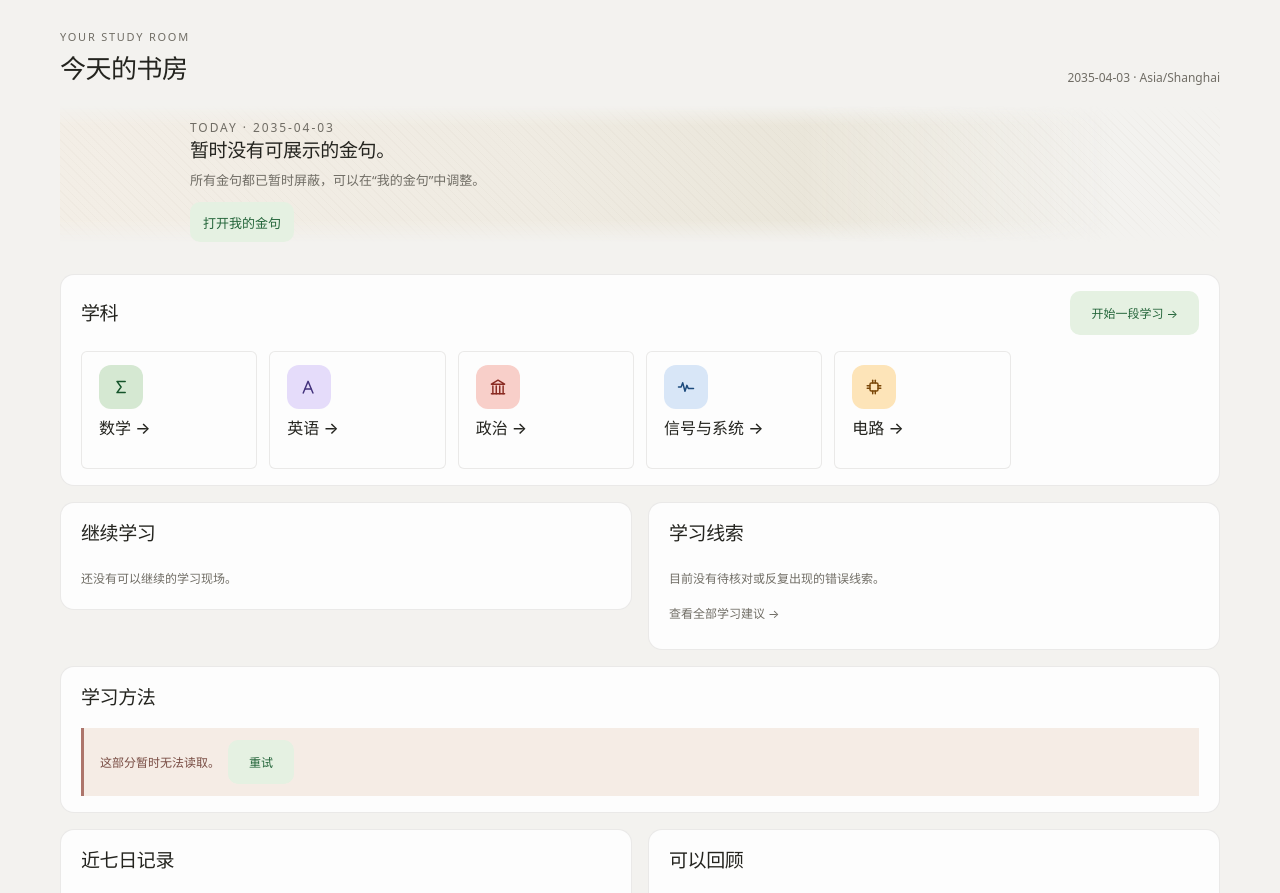
HomePage › keeps the loaded home intact and shows an alert when an isolated retry fails
Click the button "重试" at coordinates (261, 762), box [228, 740, 294, 784]
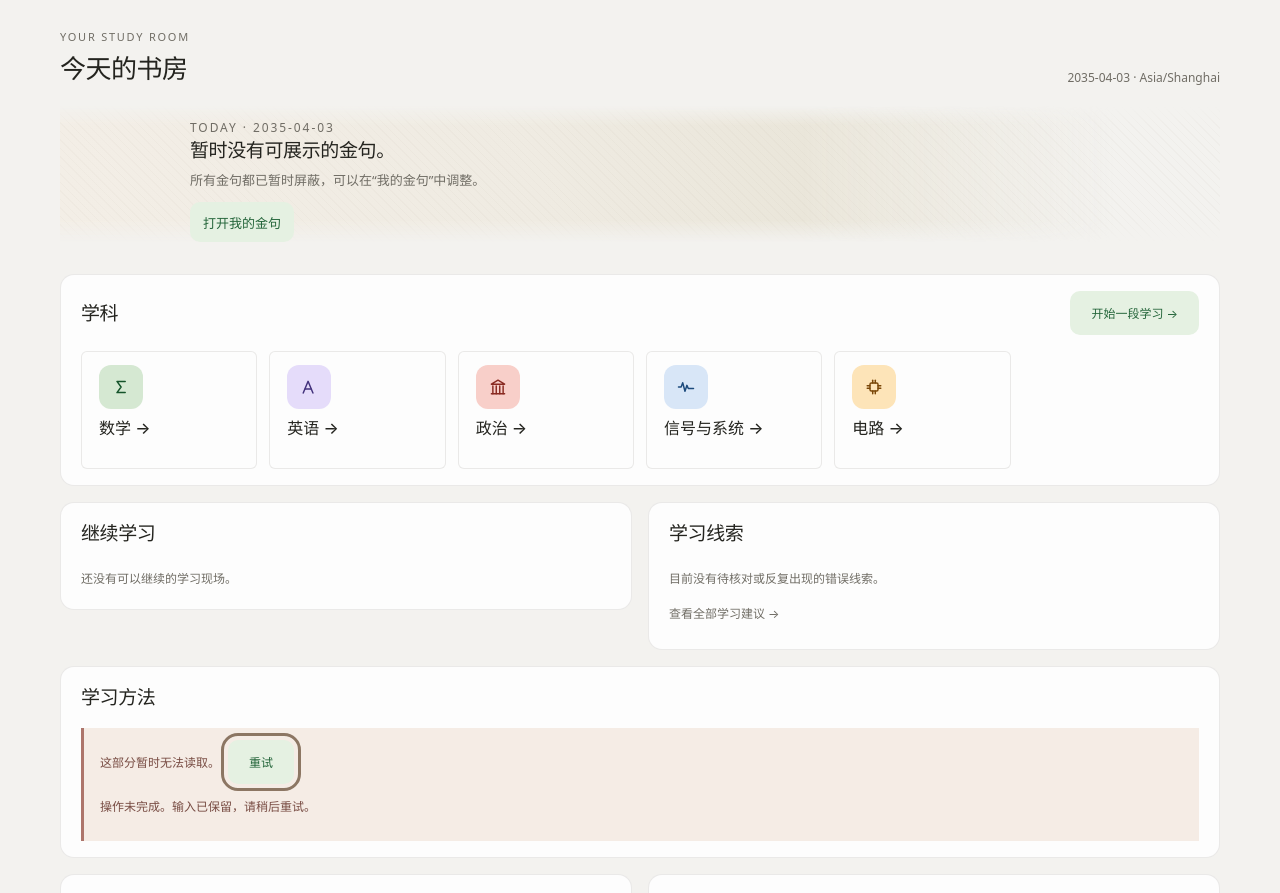
Check: the button "数学 →" is shown, box [81, 351, 257, 469]
Check: the message shows "操作未完成", box [100, 798, 316, 815]
